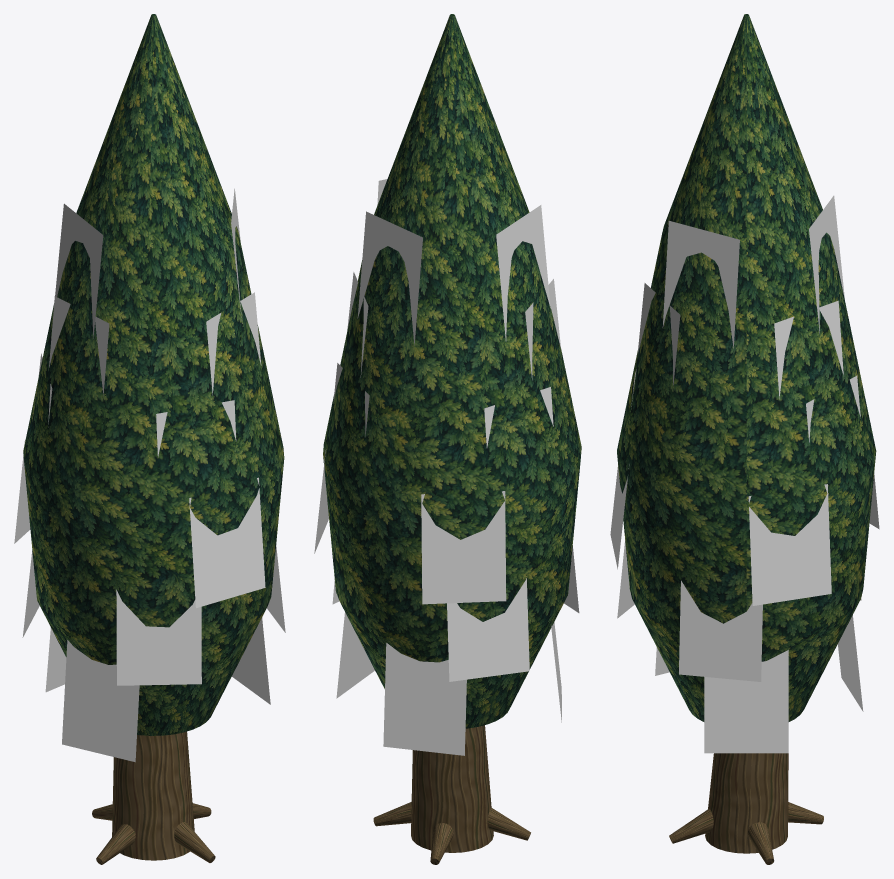
File: Tree_AlleyCypress.fbx
3 renders of one model, left to right at view 1: azimuth 30°, elevation 25°; view 2: azimuth 150°, elevation 25°; view 3: azimuth 270°, elevation 25°, orthographic.
Visible parts, largest first — view 1: Tree_AlleyCypress.001; view 2: Tree_AlleyCypress.001; view 3: Tree_AlleyCypress.001.
Boxes of the visible parts, x1,y1,x2,y2 form: Tree_AlleyCypress.001: (14, 14, 285, 864); Tree_AlleyCypress.001: (314, 14, 581, 864); Tree_AlleyCypress.001: (610, 14, 879, 864).
Size of the model in its own units: 218 by 733 by 218.
Materials: 3 (2 with a texture image).
